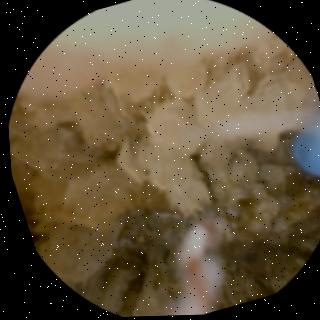fiber: (291, 133, 320, 176)
stone: (7, 50, 320, 316)
